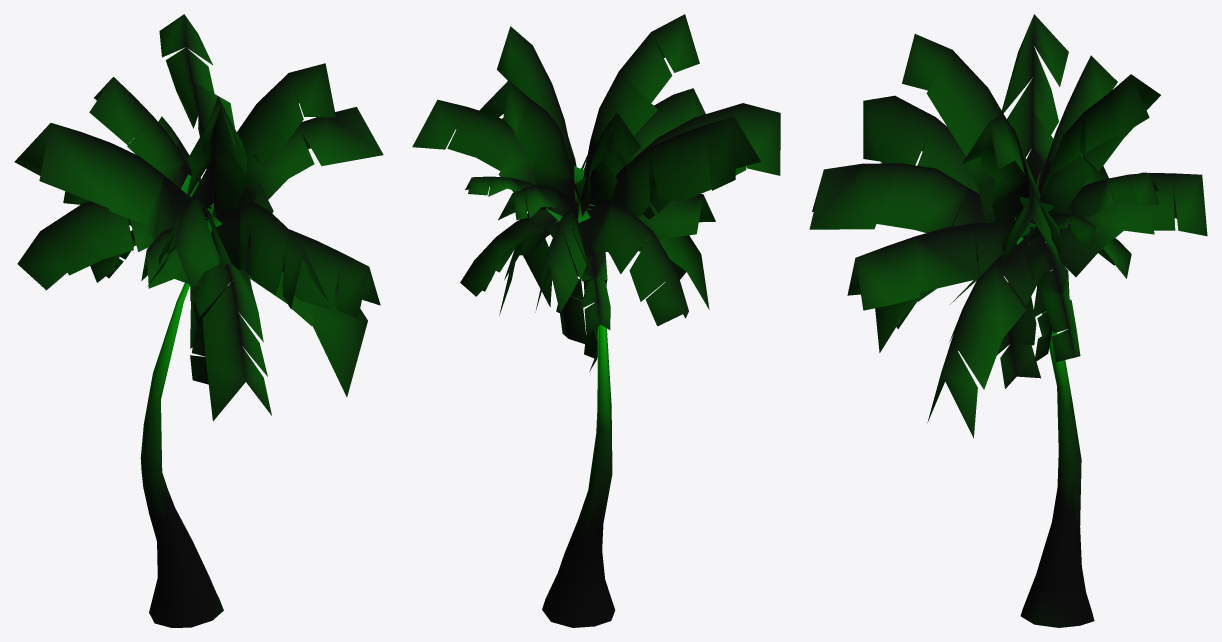
The model's file is CoconutPalmTree02_afsTREE_xlprl05_xef99_uv2_xds10_xlod02.fbx.
3 views of the same model, side by side, from view 1: azimuth 30°, elevation 25°; view 2: azimuth 150°, elevation 25°; view 3: azimuth 270°, elevation 25° (orthographic). The views are drawn at different scales.
Parts seen in each view (by area): view 1: branch19_xw08_xt08_xp02_xlp04, trunk_xw08_xt04_xlp00, branch01_xw06_xt07_xp07_xlp04, branch17_xw08_xt09_xlp04, branch10_xw10_xt08_xp10_xlp05, branch02_xw08_xt08_xlp05_xp01, branch11_xw08_xt08_xlp04, branch17_xw12_xt10_xlp06_xp06, branch21_xw08_xt08_xp06_xlp05, branch02_xw08_xt08_xlp04, branch12_xw11_xt09_xp03_xlp06, branch03_xw06_xt07_xlp04 (+4 smaller); view 2: trunk_xw08_xt04_xlp00, branch19_xw08_xt08_xp02_xlp04, branch17_xw12_xt10_xlp06_xp06, branch17_xw08_xt09_xlp04, branch11_xw08_xt08_xlp04, branch12_xw11_xt09_xp03_xlp06, branch20_xw09_xt08_xp09_xlp04, branch10_xw10_xt08_xp10_xlp05, branch21_xw08_xt08_xp06_xlp05, branch14_xw08_xt09_xp10_xlp06, branch04_xw05_xt07_xlp05_xp02, branch07_xw04_xt08_xlp06_xp05 (+7 smaller); view 3: branch02_xw08_xt08_xlp05_xp01, trunk_xw08_xt04_xlp00, branch02_xw08_xt08_xlp04, branch03_xw06_xt07_xlp04, branch17_xw12_xt10_xlp06_xp06, branch12_xw11_xt09_xp03_xlp06, branch14_xw08_xt09_xp10_xlp06, branch20_xw09_xt08_xp09_xlp04, branch19_xw08_xt08_xp02_xlp04, branch10_xw10_xt08_xp10_xlp05, branch04_xw05_xt07_xlp05_xp02, branch15_xw08_xt09_xlp06_xp09 (+7 smaller).
Boxes of the visible parts, x1=… form: branch19_xw08_xt08_xp02_xlp04: x1=14, y1=123, x2=190, y2=240; trunk_xw08_xt04_xlp00: x1=140, y1=283, x2=223, y2=627; branch01_xw06_xt07_xp07_xlp04: x1=192, y1=250, x2=271, y2=421; branch17_xw08_xt09_xlp04: x1=17, y1=201, x2=154, y2=290; branch10_xw10_xt08_xp10_xlp05: x1=237, y1=63, x2=335, y2=207; branch02_xw08_xt08_xlp05_xp01: x1=211, y1=202, x2=328, y2=309; branch11_xw08_xt08_xlp04: x1=254, y1=107, x2=383, y2=213; branch17_xw12_xt10_xlp06_xp06: x1=185, y1=96, x2=250, y2=214; branch21_xw08_xt08_xp06_xlp05: x1=89, y1=77, x2=191, y2=188; branch02_xw08_xt08_xlp04: x1=243, y1=229, x2=380, y2=318; branch12_xw11_xt09_xp03_xlp06: x1=159, y1=14, x2=234, y2=168; branch03_xw06_xt07_xlp04: x1=248, y1=271, x2=367, y2=396; trunk_xw08_xt04_xlp00: x1=542, y1=278, x2=615, y2=627; branch19_xw08_xt08_xp02_xlp04: x1=588, y1=116, x2=760, y2=219; branch17_xw12_xt10_xlp06_xp06: x1=583, y1=14, x2=699, y2=178; branch17_xw08_xt09_xlp04: x1=584, y1=203, x2=688, y2=326; branch11_xw08_xt08_xlp04: x1=412, y1=99, x2=555, y2=224; branch12_xw11_xt09_xp03_xlp06: x1=477, y1=80, x2=579, y2=210; branch20_xw09_xt08_xp09_xlp04: x1=633, y1=103, x2=780, y2=175; branch10_xw10_xt08_xp10_xlp05: x1=497, y1=26, x2=580, y2=202; branch21_xw08_xt08_xp06_xlp05: x1=580, y1=112, x2=640, y2=216; branch14_xw08_xt09_xp10_xlp06: x1=535, y1=209, x2=589, y2=312; branch04_xw05_xt07_xlp05_xp02: x1=460, y1=215, x2=558, y2=296; branch07_xw04_xt08_xlp06_xp05: x1=571, y1=221, x2=610, y2=334; branch02_xw08_xt08_xlp05_xp01: x1=809, y1=163, x2=994, y2=252; trunk_xw08_xt04_xlp00: x1=1020, y1=285, x2=1094, y2=627; branch02_xw08_xt08_xlp04: x1=847, y1=223, x2=1011, y2=310; branch03_xw06_xt07_xlp04: x1=927, y1=239, x2=1041, y2=438; branch17_xw12_xt10_xlp06_xp06: x1=902, y1=34, x2=1007, y2=222; branch12_xw11_xt09_xp03_xlp06: x1=1039, y1=74, x2=1160, y2=233; branch14_xw08_xt09_xp10_xlp06: x1=1053, y1=172, x2=1207, y2=276; branch20_xw09_xt08_xp09_xlp04: x1=863, y1=95, x2=979, y2=193; branch19_xw08_xt08_xp02_xlp04: x1=1001, y1=14, x2=1068, y2=189; branch10_xw10_xt08_xp10_xlp05: x1=962, y1=115, x2=1040, y2=232; branch04_xw05_xt07_xlp05_xp02: x1=1025, y1=227, x2=1080, y2=361; branch15_xw08_xt09_xlp06_xp09: x1=1040, y1=172, x2=1159, y2=241.
Size of what is drawn, in the model's own units: 12.05 by 12.43 by 19.55.
